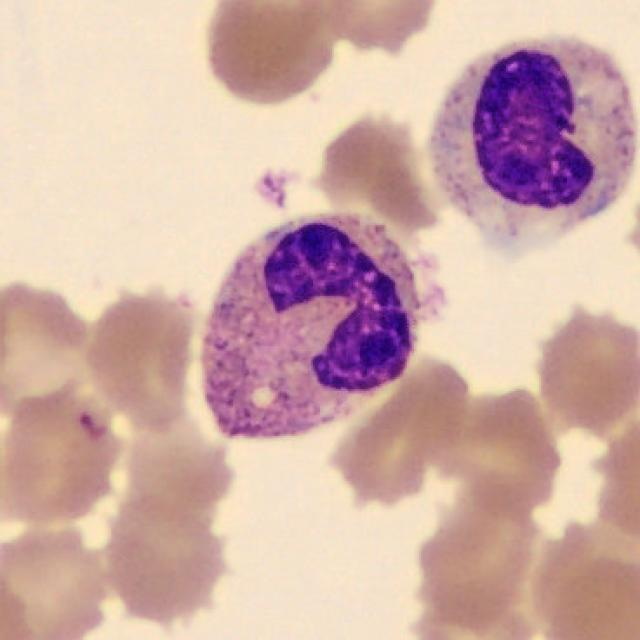Bastonete: (428, 36, 633, 247)
Neutrofilo segmentado: (202, 213, 428, 441)
